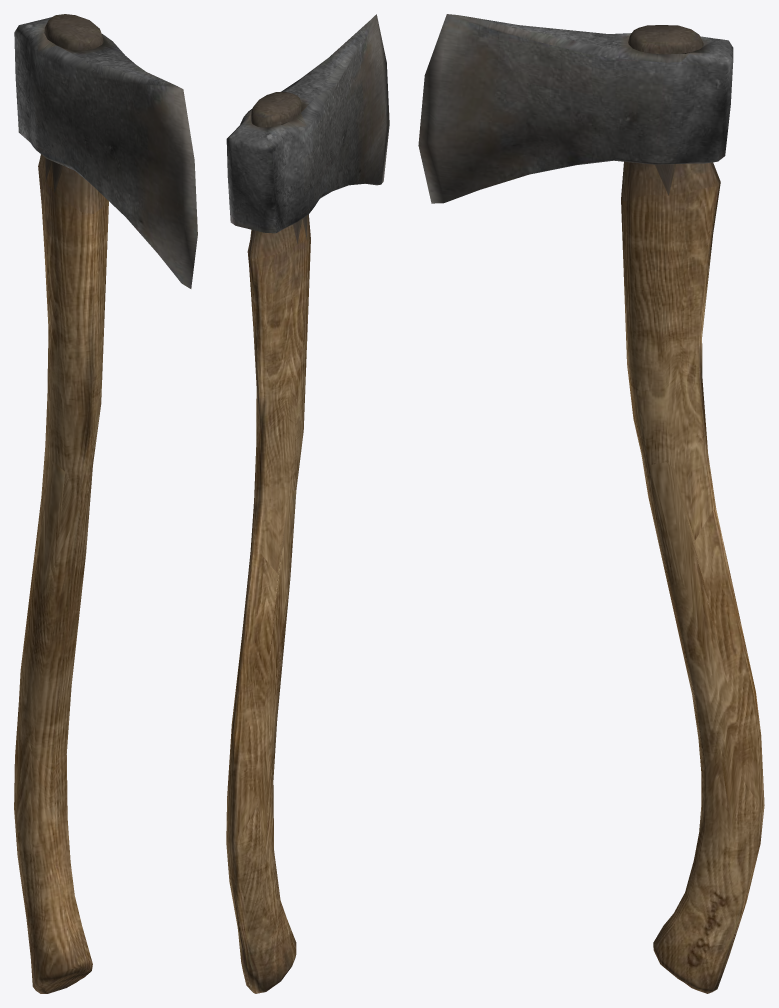
Rendered from weapon_axe_wooden_01.glb.
3 renders of one model, left to right at view 1: azimuth 30°, elevation 25°; view 2: azimuth 150°, elevation 25°; view 3: azimuth 270°, elevation 25°, orthographic. The views are drawn at different scales.
Visible parts, largest first — view 1: weapon_axe_wooden_01; view 2: weapon_axe_wooden_01; view 3: weapon_axe_wooden_01.
Part boxes in pixels (x1,y1,x2,y2): weapon_axe_wooden_01: (14,14,197,993); weapon_axe_wooden_01: (226,14,389,993); weapon_axe_wooden_01: (418,14,764,993).
Size of the model in its own units: 0.0509 by 0.7047 by 0.226.
Materials: 1 (1 with a texture image).
